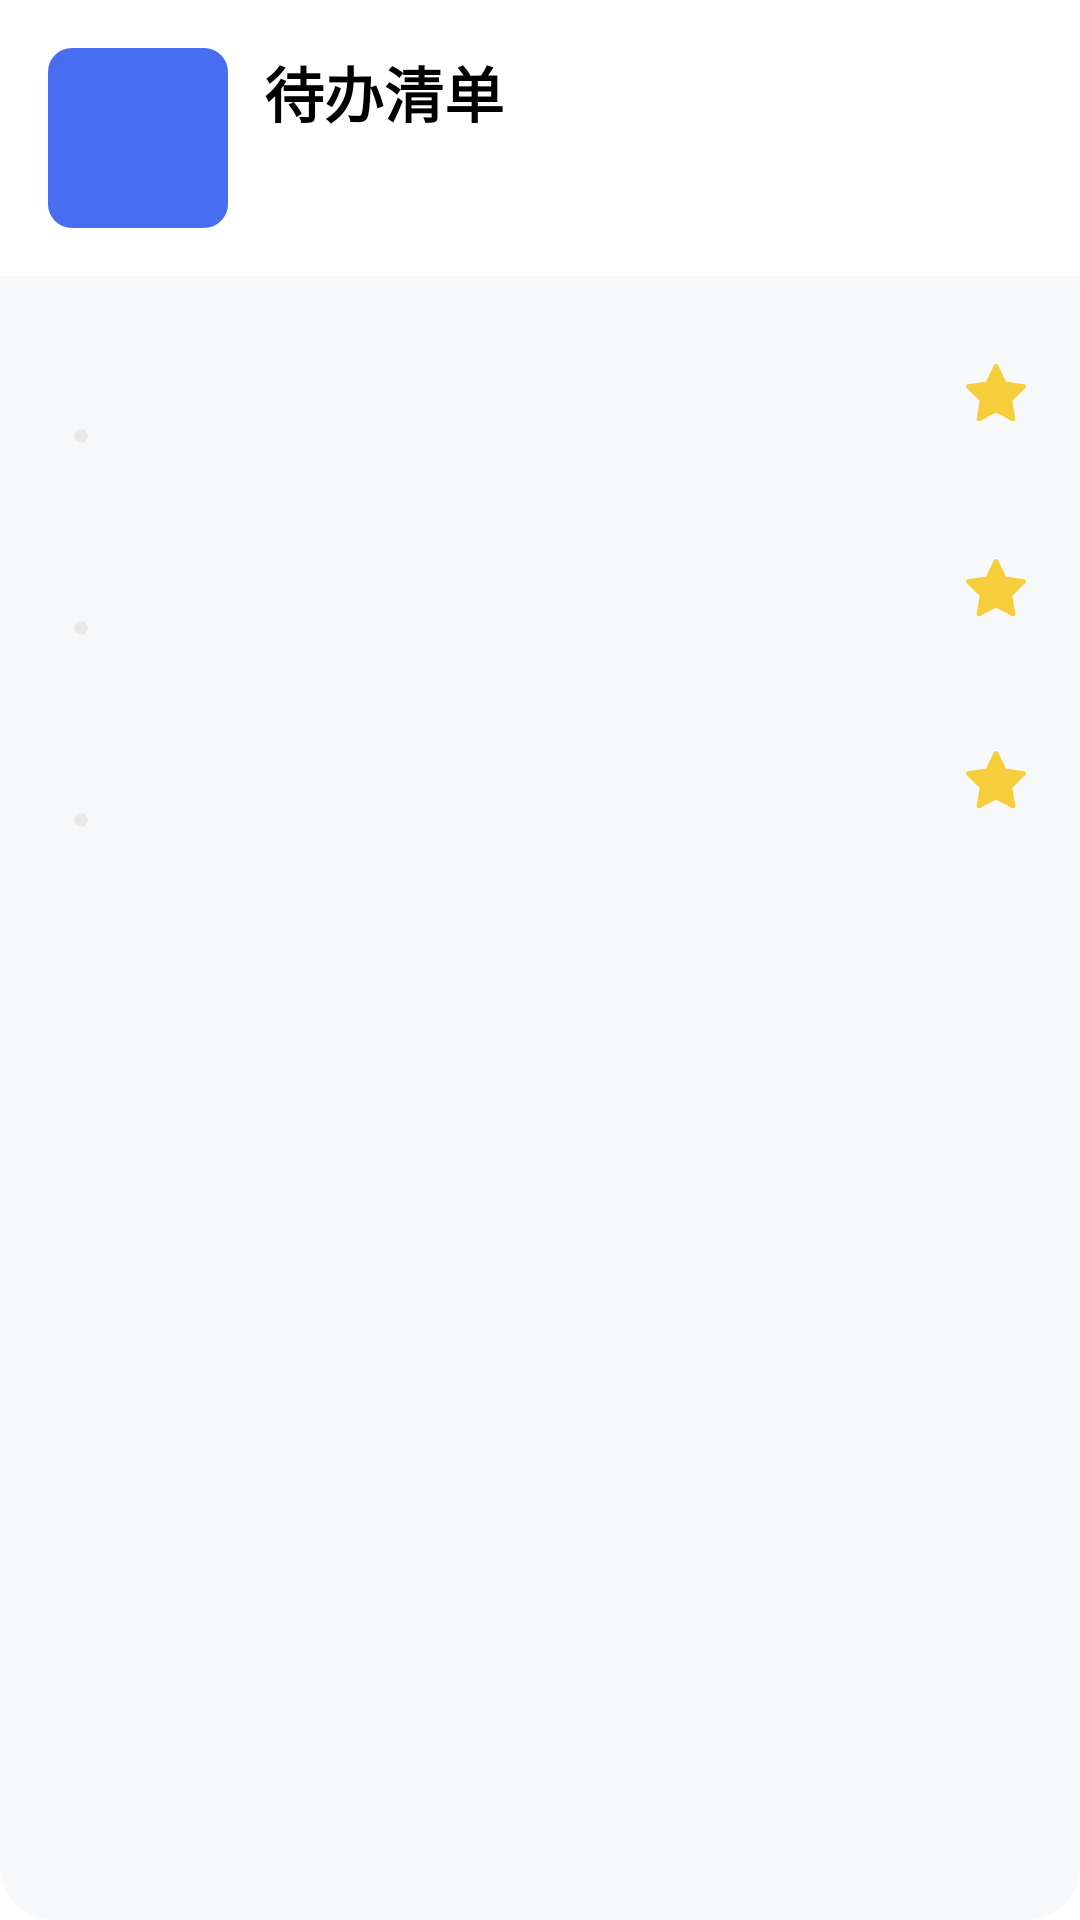

Where icons sit on this 1080w x 1920h app screen, as bbox=[x1, y1, x2, y2]:
star: bbox=[966, 364, 1026, 422], bbox=[966, 559, 1026, 617], bbox=[966, 751, 1026, 809]
